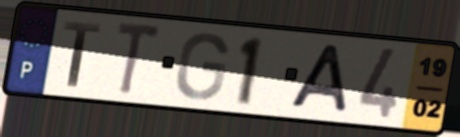1: (236, 34, 266, 107)
4: (355, 45, 400, 123)
A: (286, 42, 350, 116)
G: (173, 31, 231, 103)
T: (113, 18, 165, 98), (61, 18, 103, 90)
